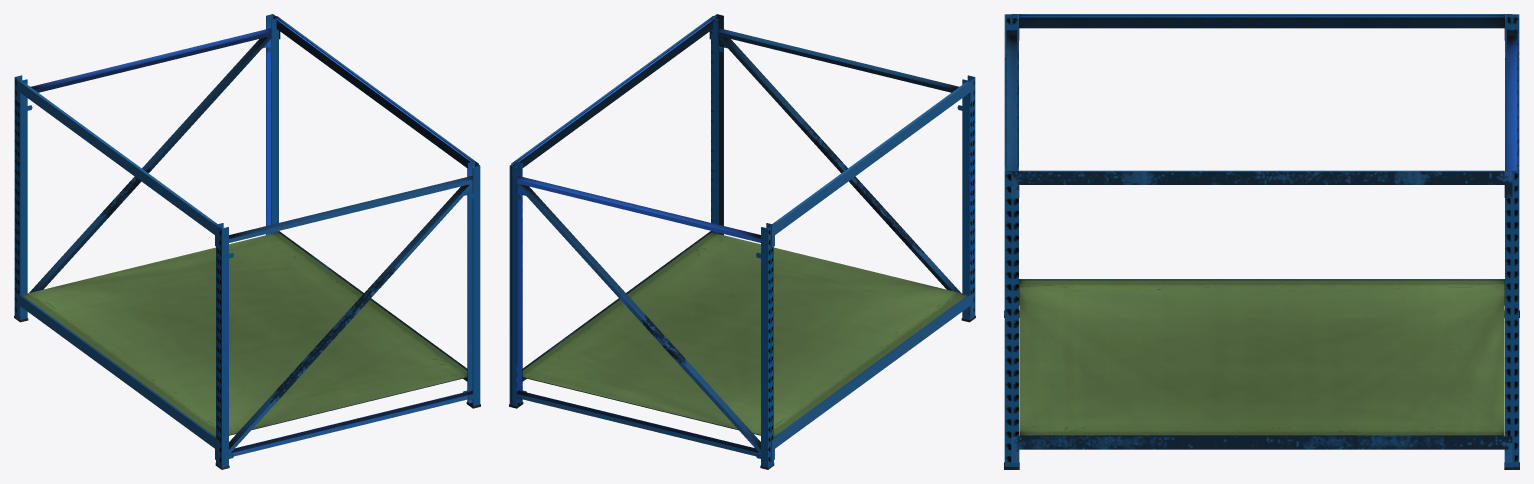
Rendered from Rack Cajas un Nivel.FBX.
3 renders of one model, left to right at view 1: azimuth 30°, elevation 25°; view 2: azimuth 150°, elevation 25°; view 3: azimuth 270°, elevation 25°, orthographic. The views are drawn at different scales.
Parts seen in each view (by area): view 1: Rack Cajas un Nivel; view 2: Rack Cajas un Nivel; view 3: Rack Cajas un Nivel.
Boxes of the visible parts, box(x1,y1,x2,y2) form: Rack Cajas un Nivel: box(14, 14, 480, 469); Rack Cajas un Nivel: box(509, 14, 975, 469); Rack Cajas un Nivel: box(1004, 14, 1519, 469).
Bounding box in the file's own units: 181 × 160 × 250.
Materials: 1 (1 with a texture image).
